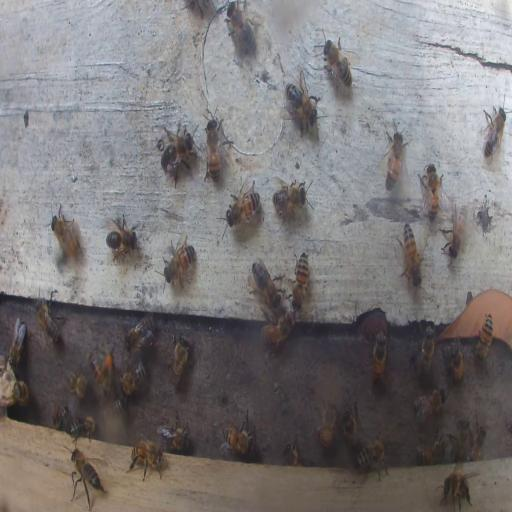nonpollenbee: (282, 70, 322, 131), (157, 122, 195, 183), (69, 448, 104, 504), (163, 234, 196, 290), (226, 4, 257, 59), (51, 206, 82, 261), (436, 466, 473, 512), (34, 292, 64, 348), (322, 35, 353, 89), (480, 105, 508, 164), (128, 438, 168, 478), (399, 220, 423, 286), (440, 204, 468, 260), (412, 320, 439, 377), (273, 178, 310, 218), (250, 260, 282, 306), (105, 214, 138, 258), (226, 186, 260, 228), (384, 127, 406, 190), (418, 163, 442, 220), (166, 330, 190, 386), (220, 420, 254, 458), (123, 314, 155, 354), (413, 385, 447, 422), (261, 311, 295, 348), (357, 438, 388, 478), (205, 116, 223, 184), (316, 398, 336, 452), (159, 418, 191, 451), (120, 361, 146, 397), (340, 403, 360, 449), (8, 316, 26, 367), (293, 250, 310, 304), (476, 314, 494, 363), (63, 368, 90, 400), (370, 333, 386, 387), (414, 437, 446, 463), (445, 340, 464, 382), (468, 422, 487, 461), (68, 416, 96, 442), (8, 378, 29, 407), (455, 419, 470, 458), (284, 440, 300, 467), (55, 404, 69, 430), (112, 395, 126, 414)
pollenbee: (89, 345, 115, 395)
